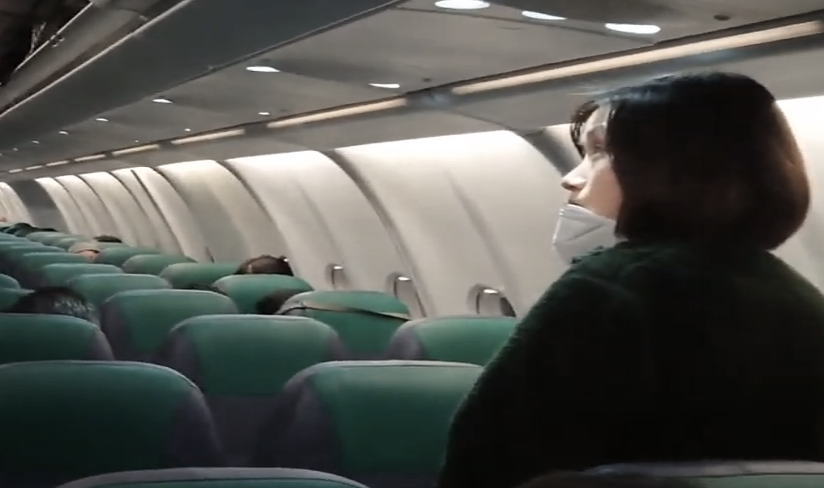mask_weared_incorrect: (547, 68, 706, 265)
